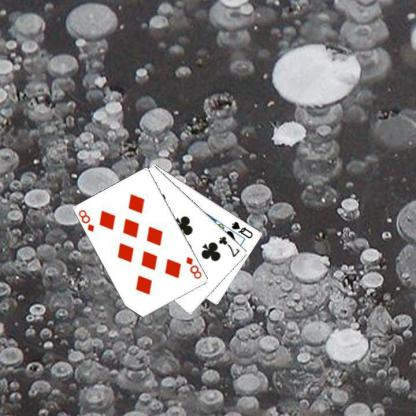7C: (216, 234, 241, 258)
8D: (76, 207, 96, 233), (184, 254, 203, 280)
QS: (230, 219, 254, 240)
